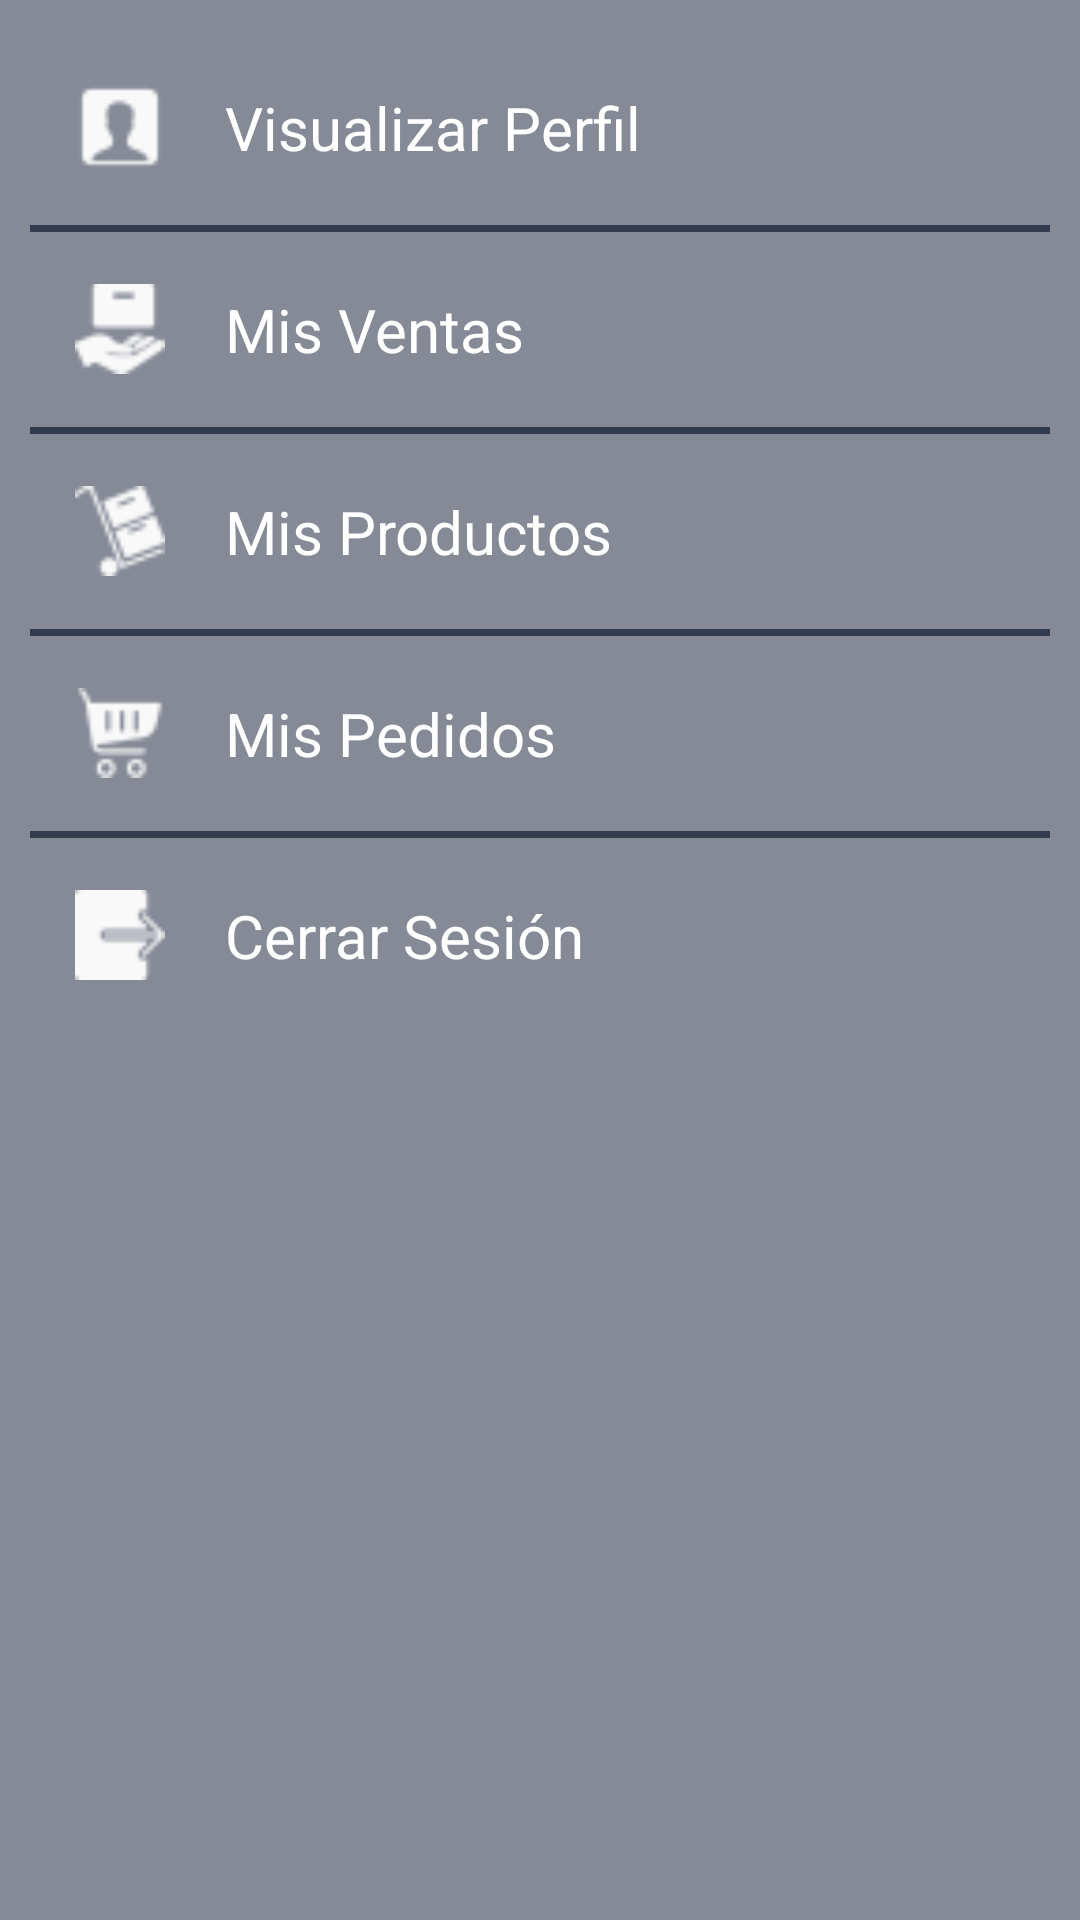

Icon bounding boxes for this 1080x1920 phone screenshot, format [x1=x1, y1=y1, x2=x2, y2=y2]:
show perfil: [x1=81, y1=88, x2=159, y2=166]
stock: [x1=75, y1=486, x2=165, y2=576]
